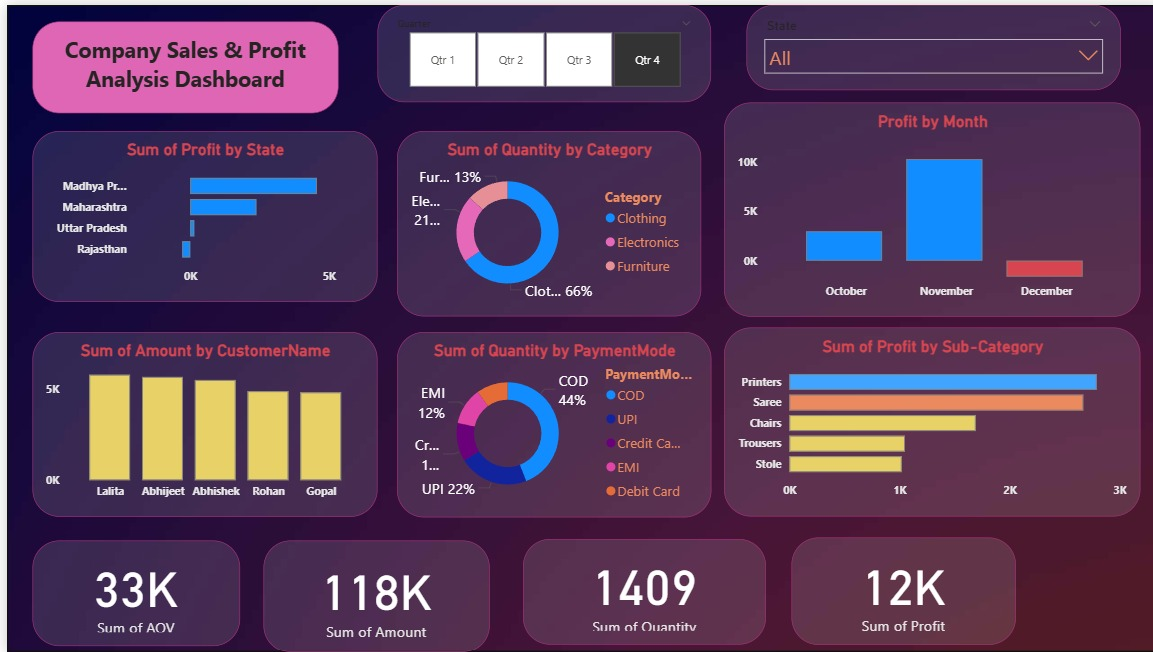

What the dashboard file says about the page in this screenshot:
{"tool":"powerbi","page":{"name":"Page 1","canvas":[1280,720],"ordinal":0},"visuals":[{"type":"textbox","box":[28.3,20.8,340.2,86.9],"z":1},{"type":"columnChart","title":" Profit by Month","fields":{"Y":["Sum(Details.Profit)"],"Category":["Orders.Order Date.Variation.Date Hierarchy.Month"]},"box":[797.5,107.7,463,238.1],"z":2},{"type":"barChart","fields":{"Category":["Details.Sub-Category"],"Y":["Sum(Details.Profit)"]},"box":[797.5,359.1,463,209.8],"z":3},{"type":"donutChart","fields":{"Category":["Details.Category"],"Y":["Sum(Details.Quantity)"]},"box":[432.8,139.8,338.3,206],"z":4},{"type":"donutChart","fields":{"Y":["Sum(Details.Quantity)"],"Category":["Details.PaymentMode"]},"box":[432.8,362.8,349.6,206],"z":5},{"type":"card","fields":{"Values":["Sum(Details.Amount)"]},"box":[285.4,595.3,251.3,124.7],"z":6},{"type":"card","fields":{"Values":["Sum(Details.Quantity)"]},"box":[572.6,593.4,270.2,117.2],"z":7},{"type":"card","fields":{"Values":["Sum(Details.Profit)"]},"box":[871.2,591.5,249.5,119.1],"z":8},{"type":"card","fields":{"Values":["Sum(Details.AOV)"]},"box":[28.3,595.3,230.6,117.2],"z":9},{"type":"barChart","fields":{"Y":["Sum(Details.Profit)"],"Category":["Orders.State"]},"box":[28.3,139.8,383.6,190.9],"z":10},{"type":"columnChart","fields":{"Category":["Orders.CustomerName"],"Y":["Sum(Details.Amount)"]},"box":[5.7,362.8,406.3,206],"z":11},{"type":"slicer","fields":{"Values":["Orders.Order Date.Variation.Date Hierarchy.Quarter"]},"box":[412,0,370.4,107.7],"z":12},{"type":"slicer","fields":{"Values":["Orders.State"]},"box":[822.1,0,415.8,94.5],"z":13}]}

Visuals, with their boxes in screenshot pixels (x1, y1, x2, y2), scaled from the page's 1280x720 canvas onto the 1153x652 screenshot:
textbox: <box>25,19,332,98</box>
" Profit by Month" columnChart: <box>718,98,1135,313</box>
barChart - Details.Sub-Category x Sum(Details.Profit): <box>718,325,1135,515</box>
donutChart - Details.Category x Sum(Details.Quantity): <box>390,127,695,313</box>
donutChart - Sum(Details.Quantity) x Details.PaymentMode: <box>390,329,705,515</box>
card - Sum(Details.Amount): <box>257,539,483,651</box>
card - Sum(Details.Quantity): <box>516,537,759,643</box>
card - Sum(Details.Profit): <box>785,536,1010,643</box>
card - Sum(Details.AOV): <box>25,539,233,645</box>
barChart - Sum(Details.Profit) x Orders.State: <box>25,127,371,299</box>
columnChart - Orders.CustomerName x Sum(Details.Amount): <box>5,329,371,515</box>
slicer - Orders.Order Date.Variation.Date Hierarchy.Quarter: <box>371,0,705,98</box>
slicer - Orders.State: <box>741,0,1115,86</box>
